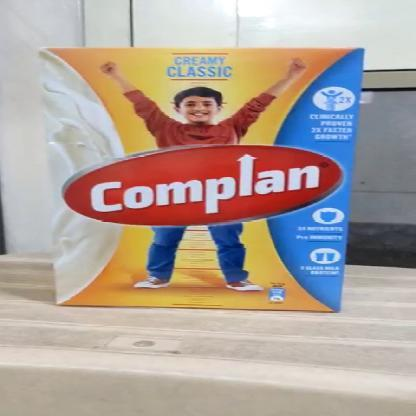Complan Classic Creme: (61, 46, 338, 310)
